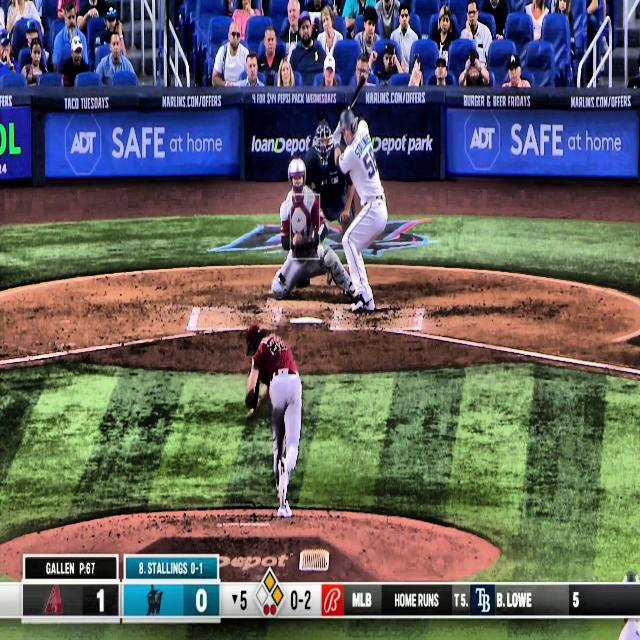baseball: (316, 244, 325, 260)
